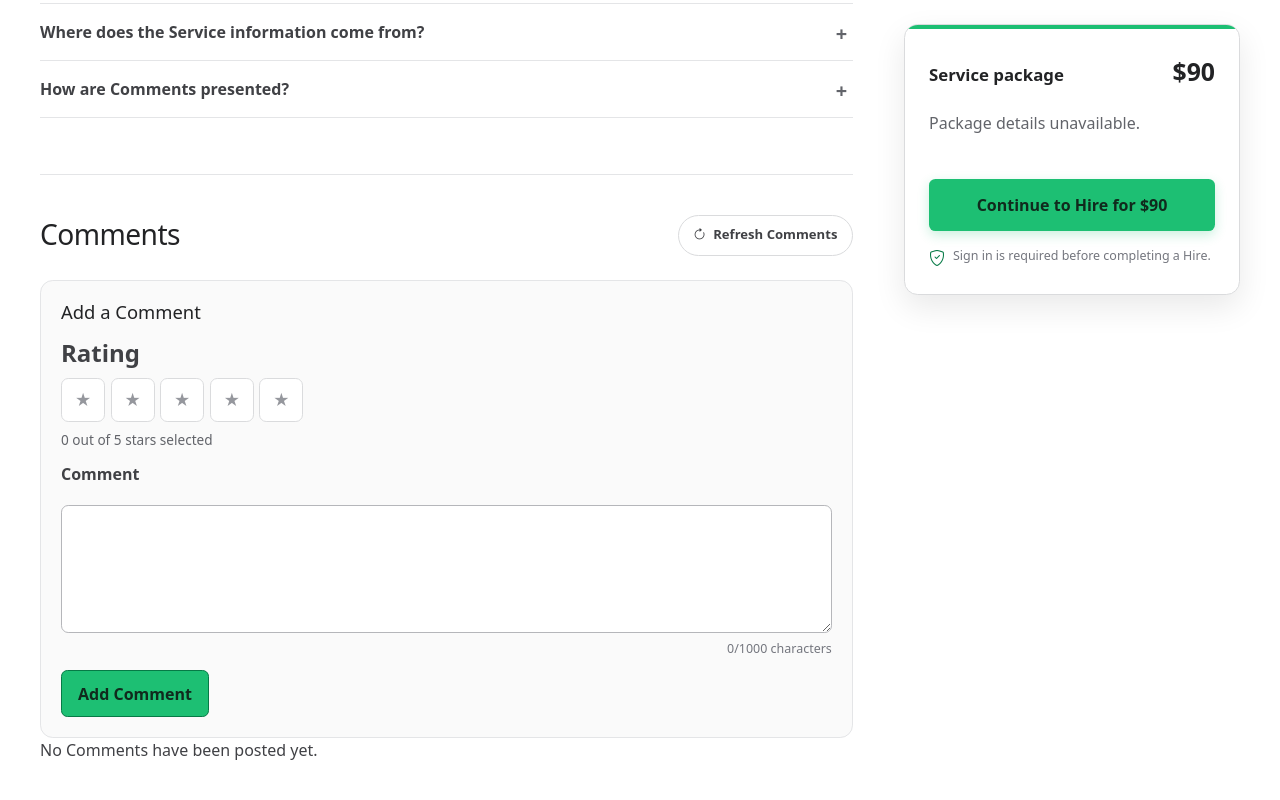
routed Service Detail › reports an offline Comment failure locally while preserving the draft
(page scrolled)
Click the radio button named "4 stars".
click(232, 400)  # box [210, 378, 254, 422]
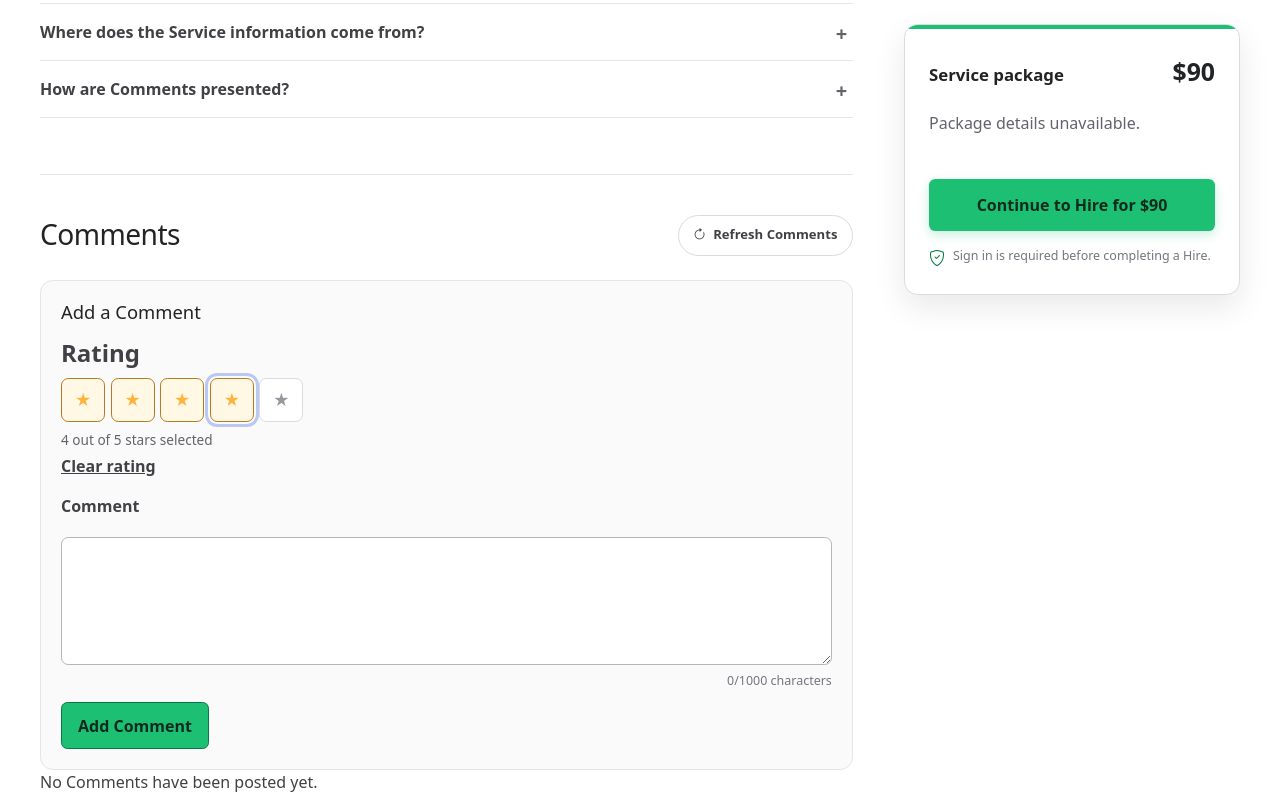
Type "Keep while offline." into the text box labelled "Comment".
click(446, 601); type("Keep while offline.")  # box [61, 537, 832, 665]
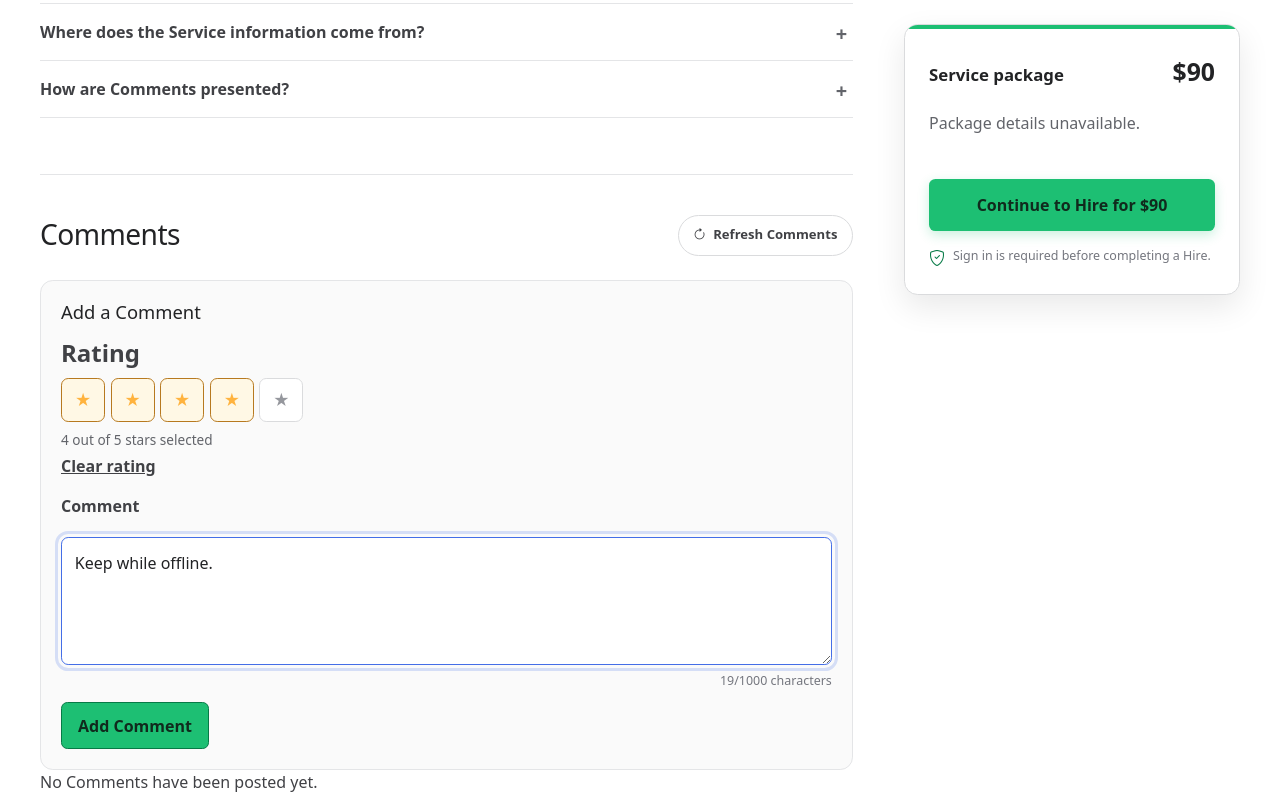
Click the button "Add Comment".
click(135, 726)  # box [61, 702, 209, 749]
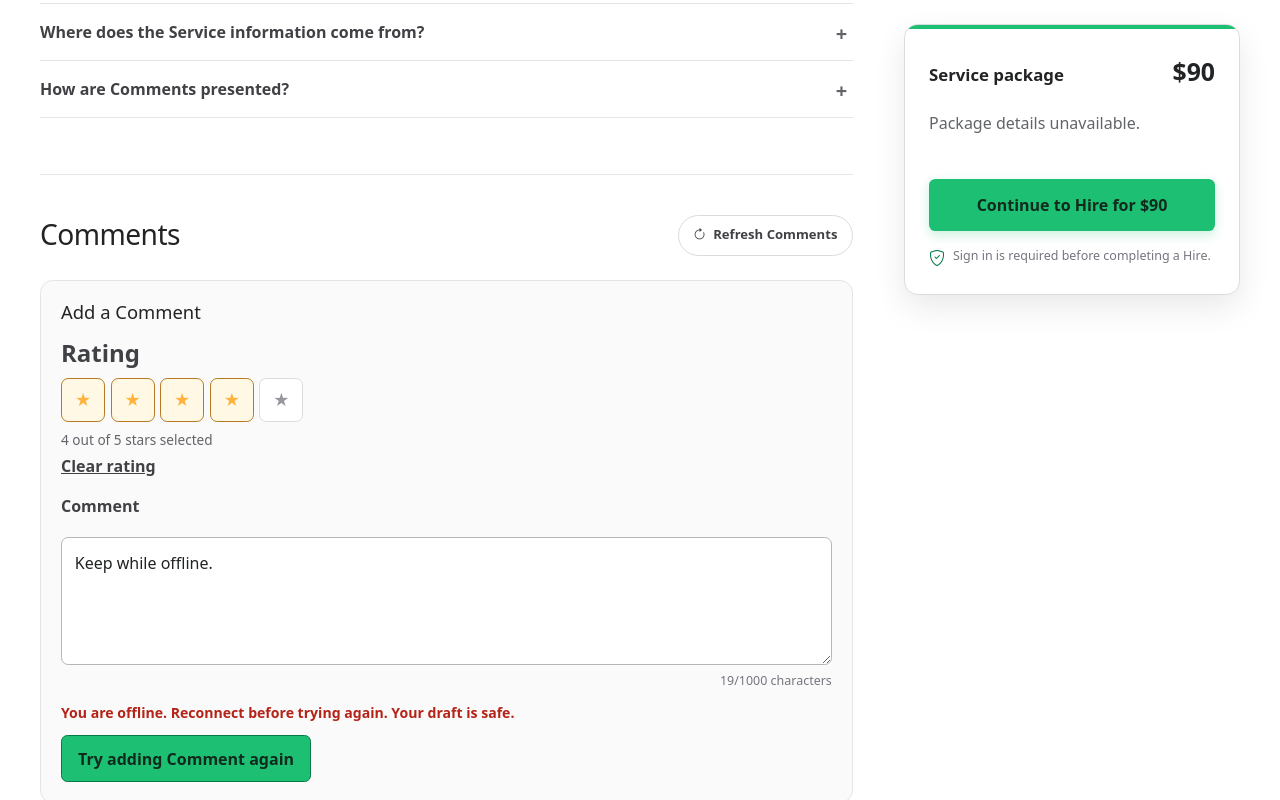
Expected: the message reads "You are offline. Reconnect before trying again. Your draft is safe.", [61, 703, 514, 722]
